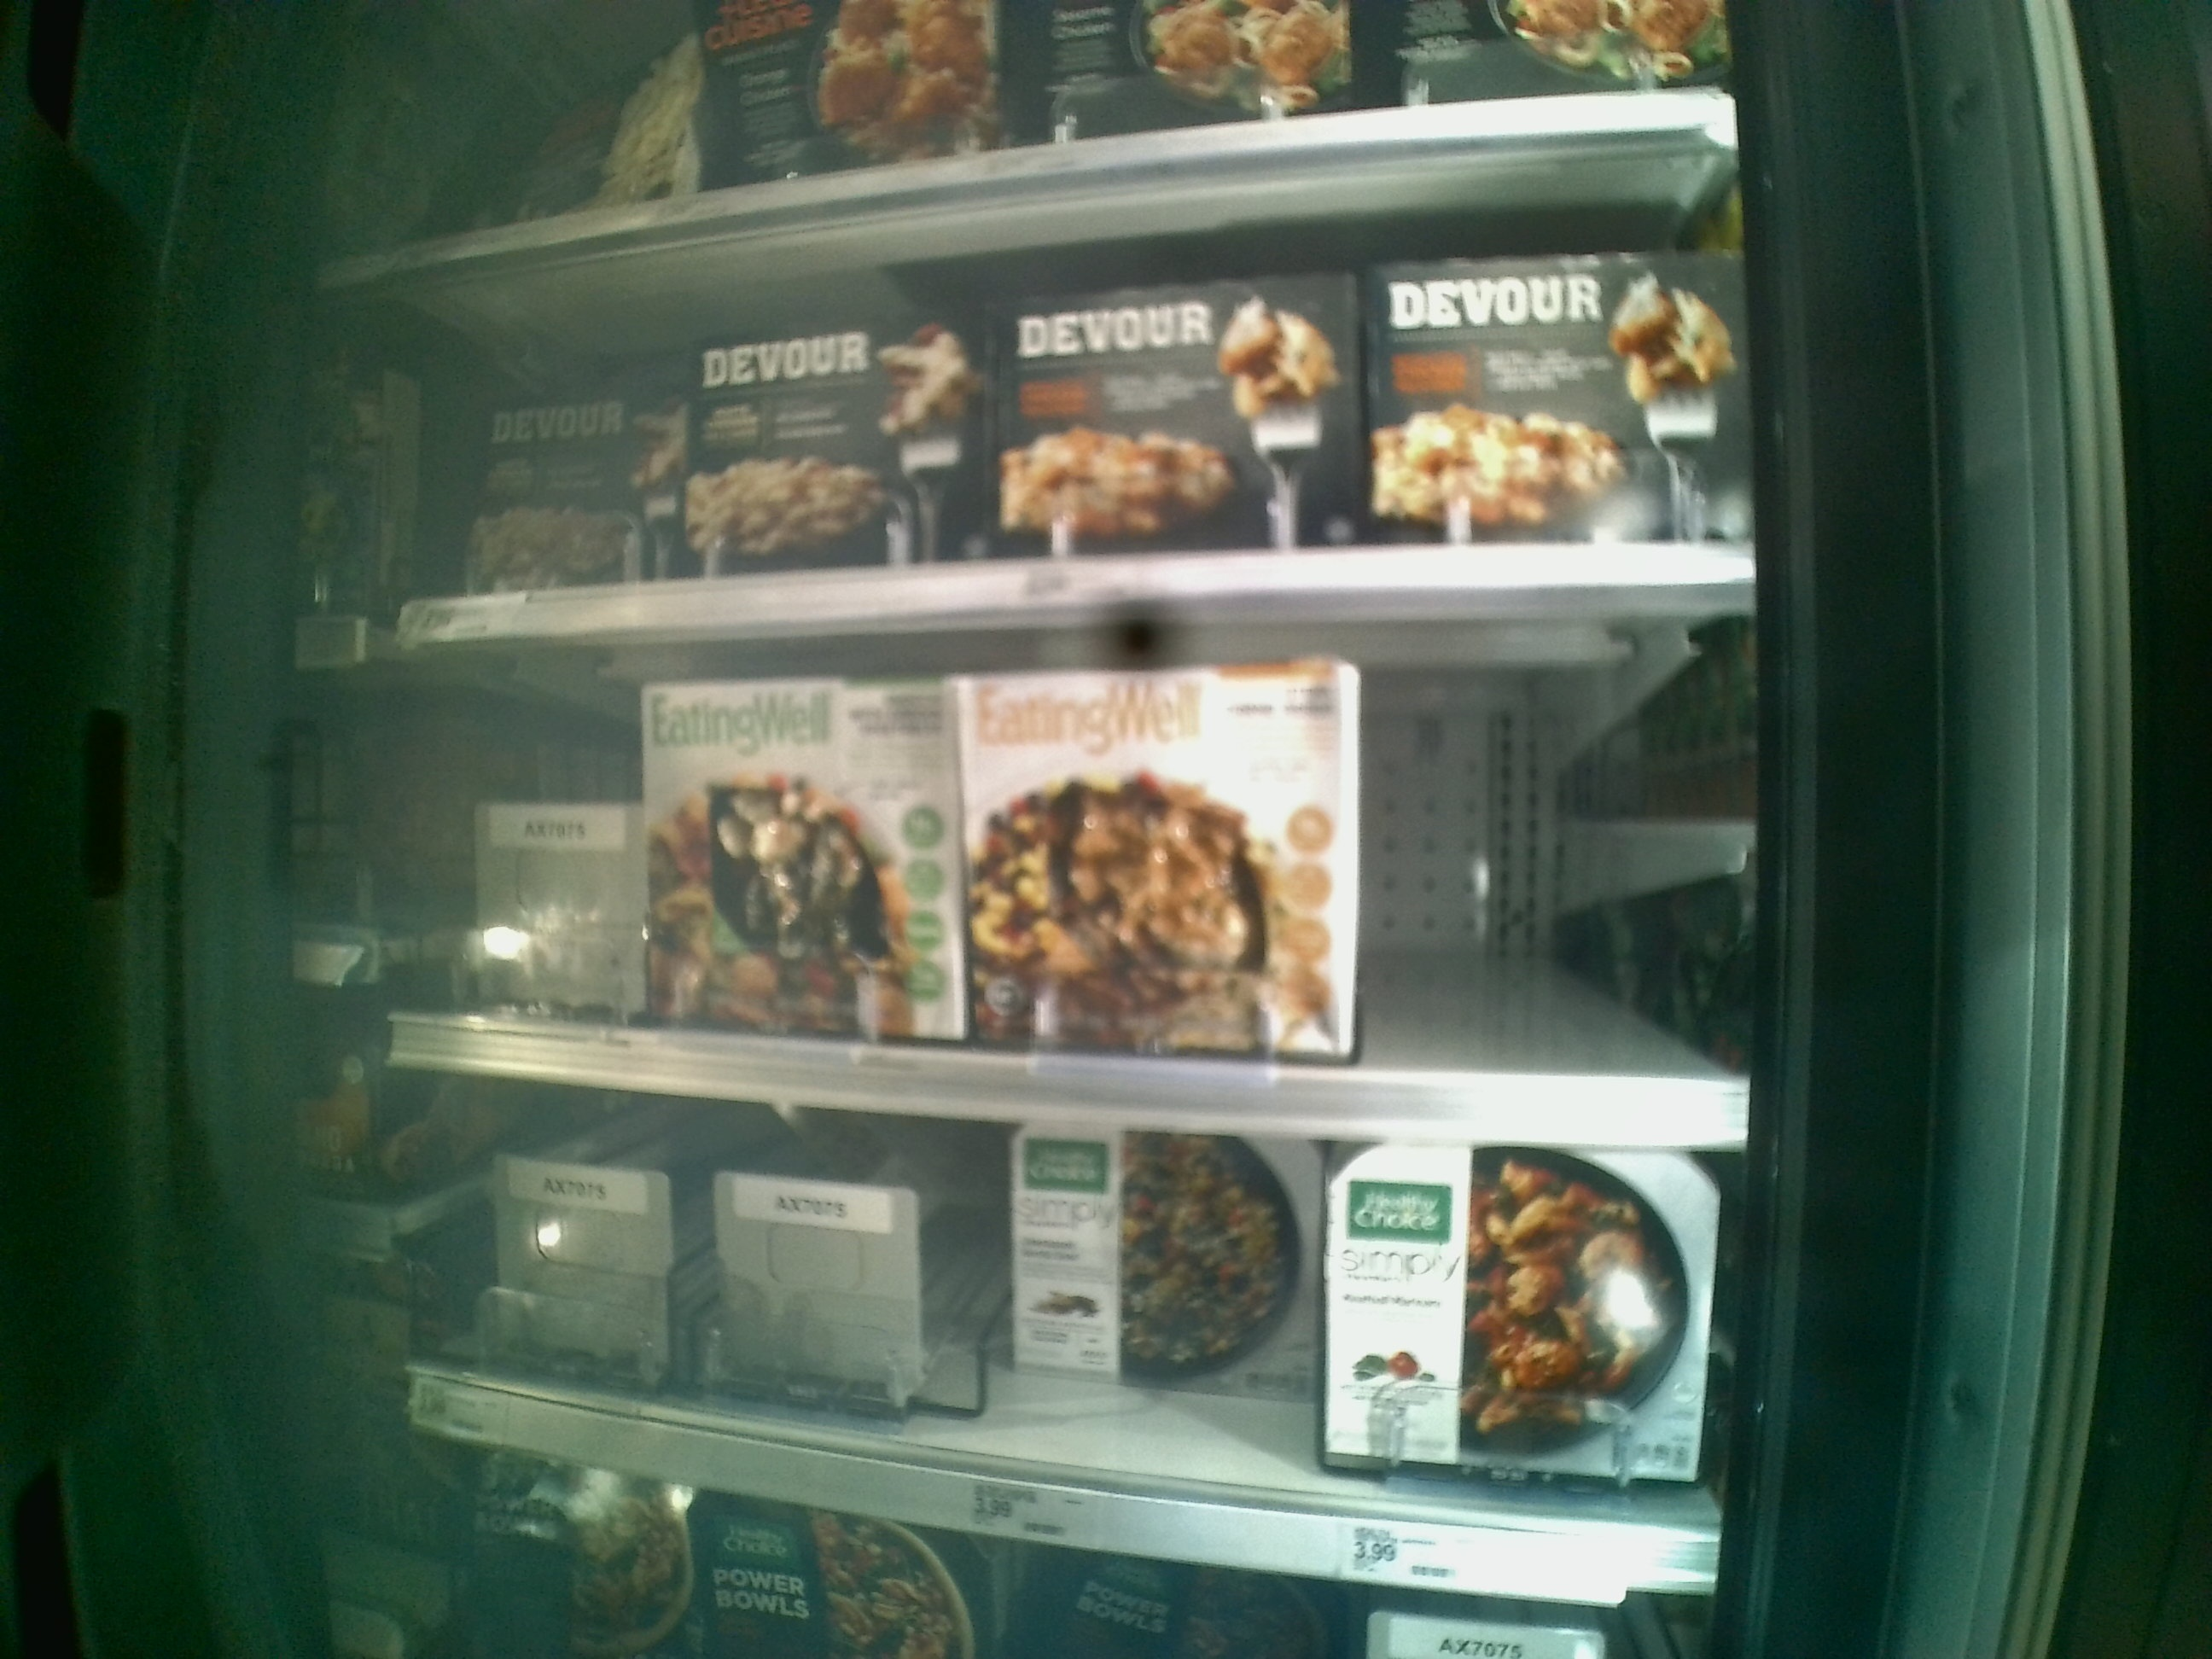shelf: (381, 612, 1752, 1145)
